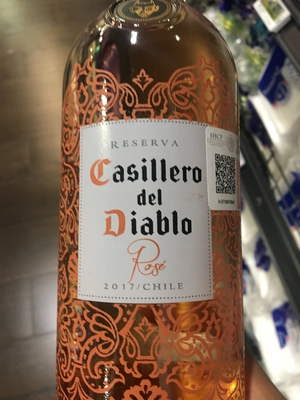casillero del diablo rose: (53, 11, 260, 400)
